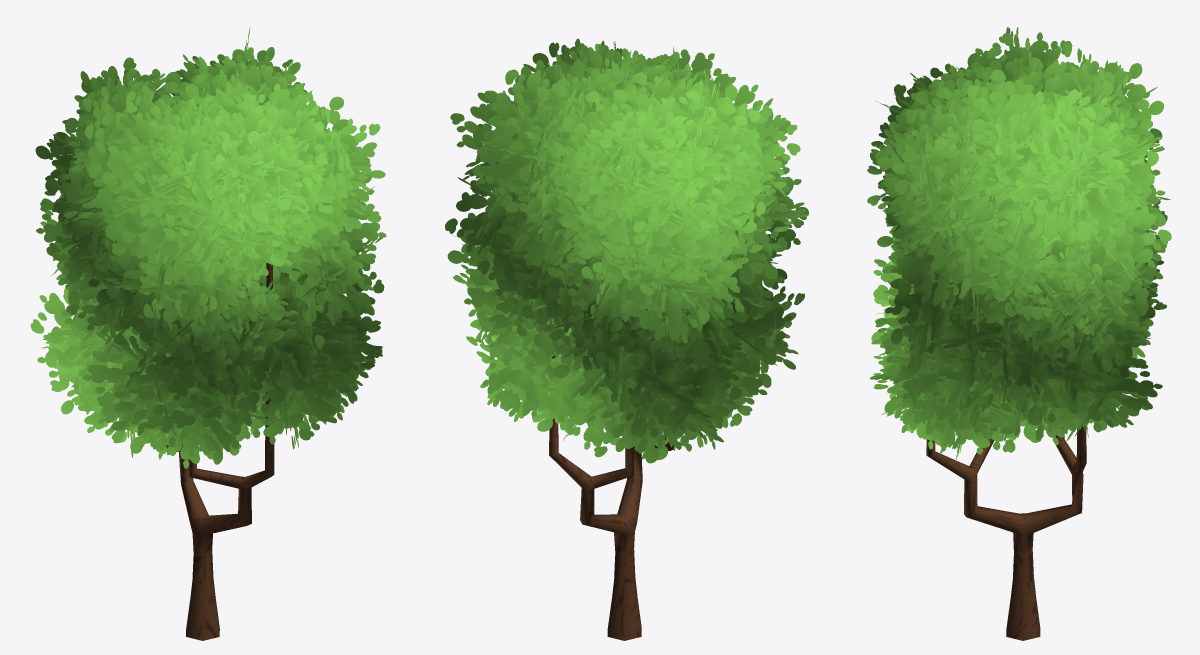
Rendered from sn-stylised-tree-9.glb.
3 renders of one model, left to right at view 1: azimuth 30°, elevation 25°; view 2: azimuth 150°, elevation 25°; view 3: azimuth 270°, elevation 25°, orthographic.
Visible parts, largest first — view 1: StylisedTree9; view 2: StylisedTree9; view 3: StylisedTree9.
Part boxes in pixels (left/top/right/bottom): StylisedTree9: left=30, top=27, right=386, bottom=640; StylisedTree9: left=445, top=38, right=808, bottom=640; StylisedTree9: left=867, top=27, right=1171, bottom=640.
Size of the model in its own units: 2.41 by 4.33 by 2.26.
2 materials, 2 textured.
